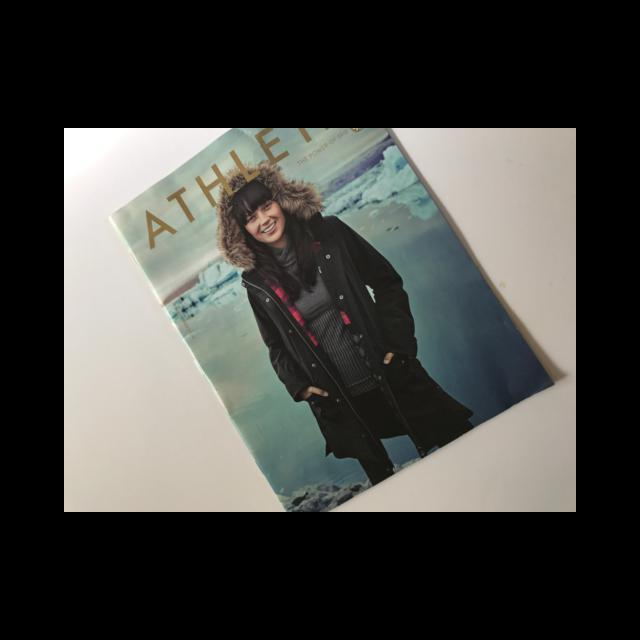paper: (107, 128, 555, 511)
